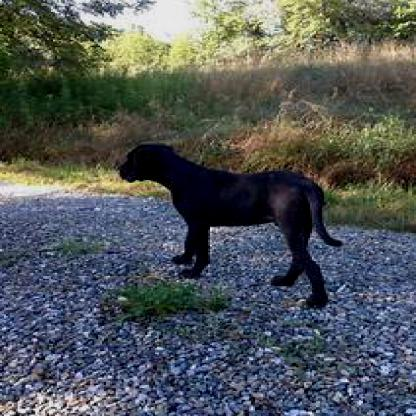dog: (116, 143, 351, 308)
